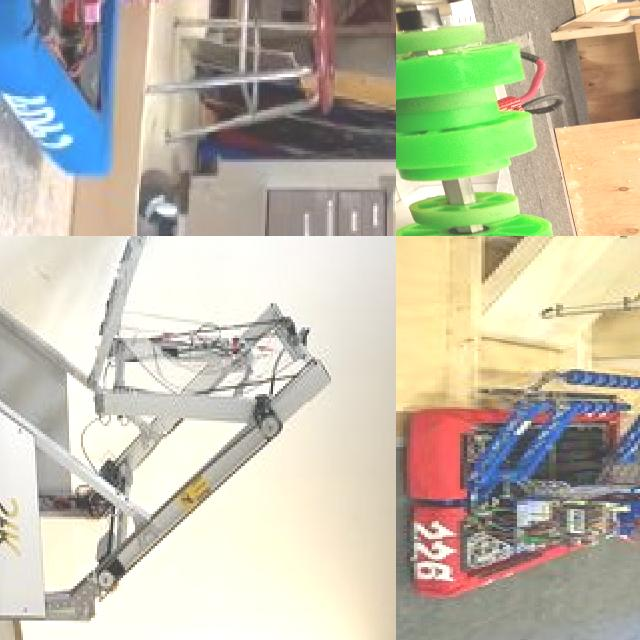FRC-Robots: (0, 236, 351, 640), (415, 236, 640, 619), (0, 0, 396, 198), (396, 0, 640, 236)
